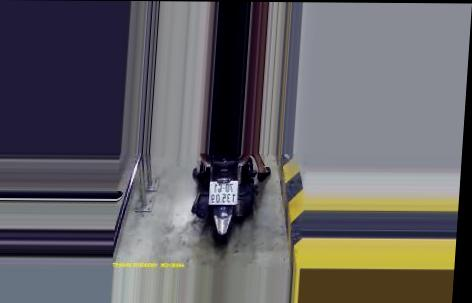License_Plate: (205, 178, 242, 208)
